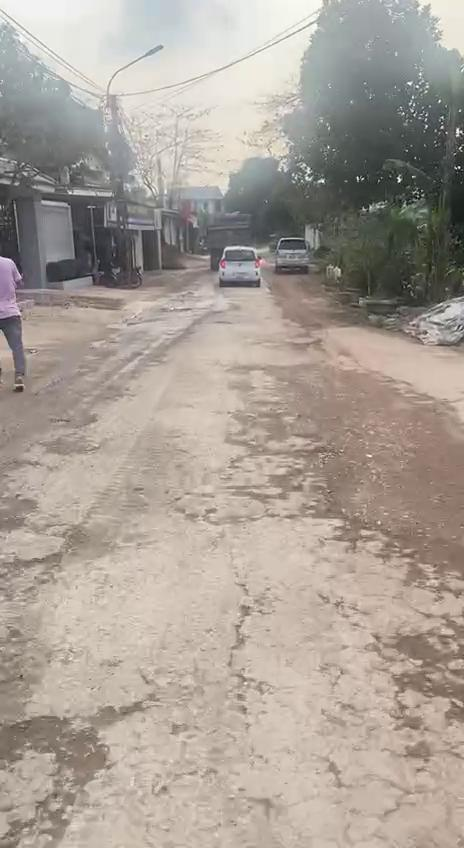pothole: (0, 707, 117, 848), (390, 620, 464, 735), (0, 520, 86, 582)
